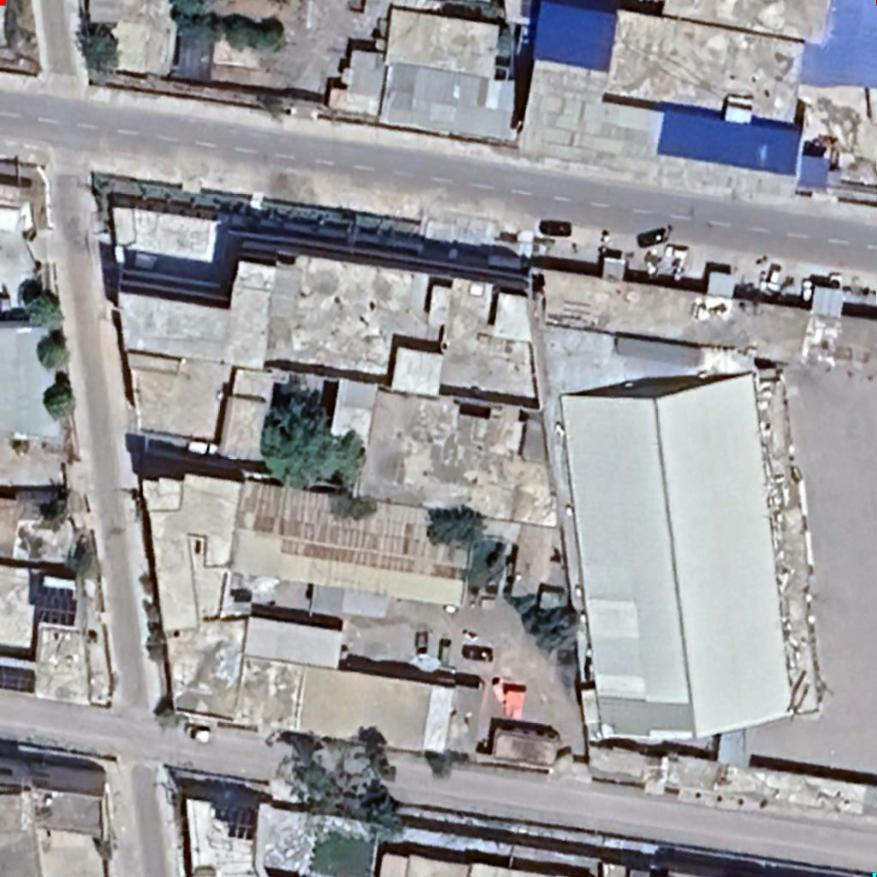Solarpanel: (28, 577, 81, 633), (215, 797, 257, 842), (0, 660, 37, 695)
